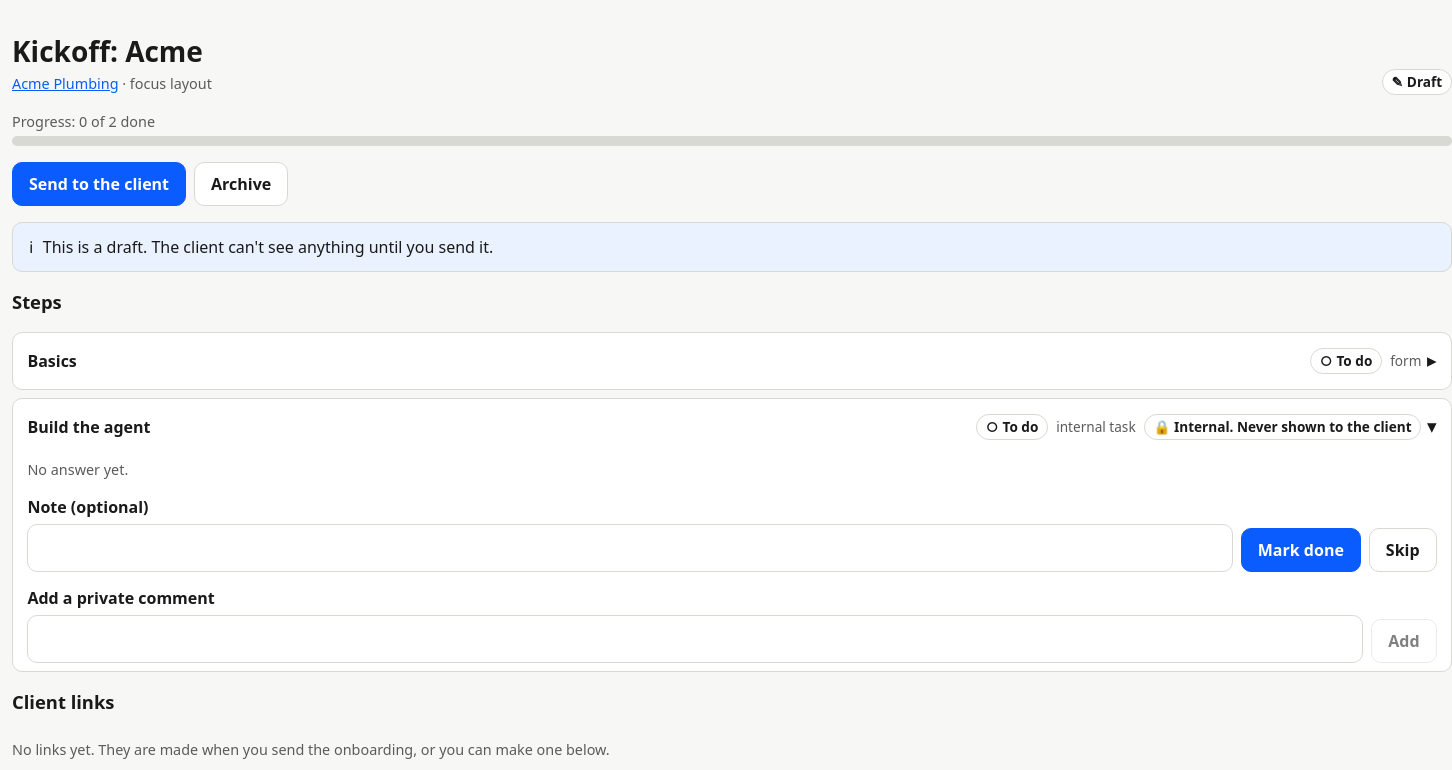
OnboardingDetail › sending shows each link once with a warning that it cannot be shown again
The width and height of the screenshot is (1452, 770).
What coordinates should you click on to do the following:
click the button "Send to the client"
I would click on:
 (99, 184)
Its box is [12,162,186,206].
(page scrolled)
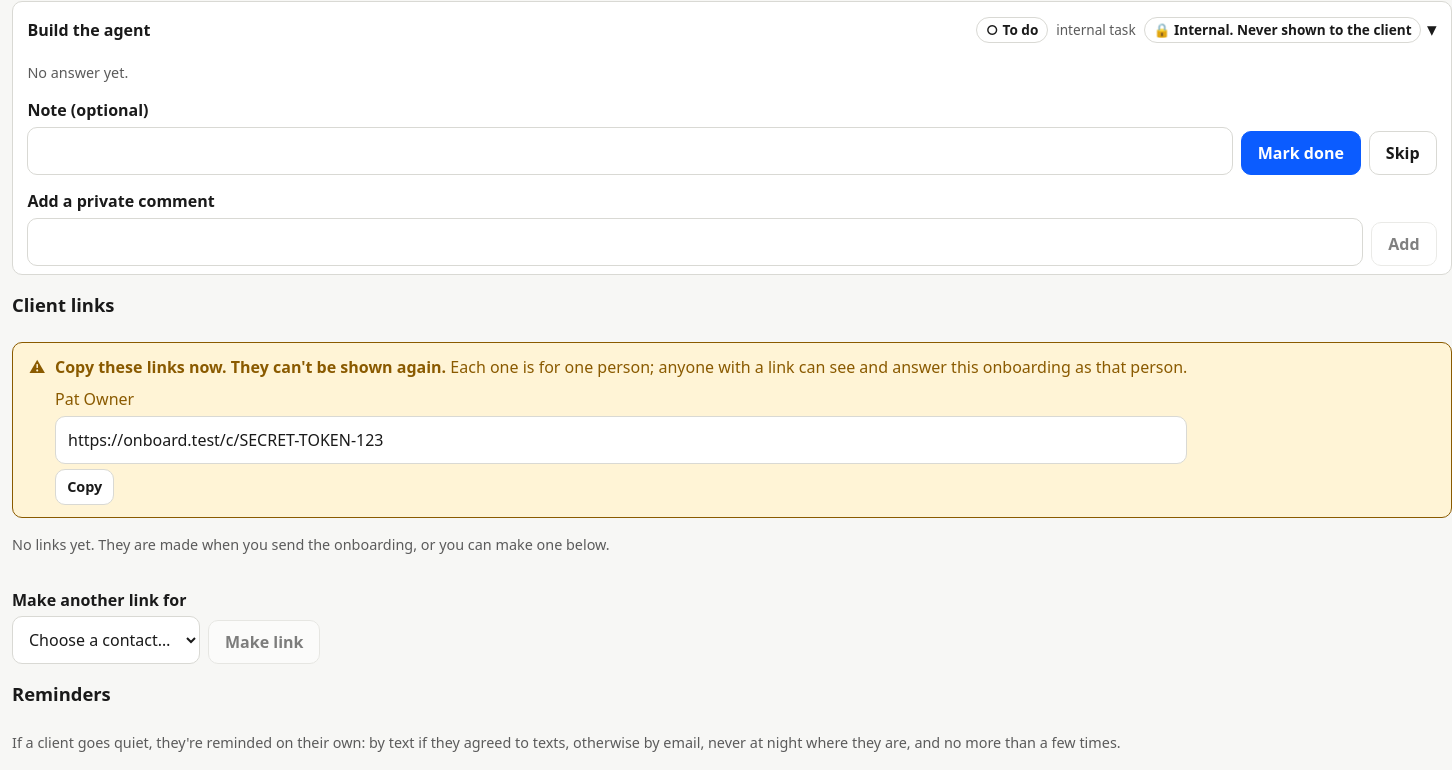
Check: the field named "Link for Pat Owner" holds "https://onboard.test/c/SECRET-TOKEN-123", box [55,416,1187,464]
Check: the text "Copy these links now. They can't be shown again." is shown, box [55,356,446,378]
